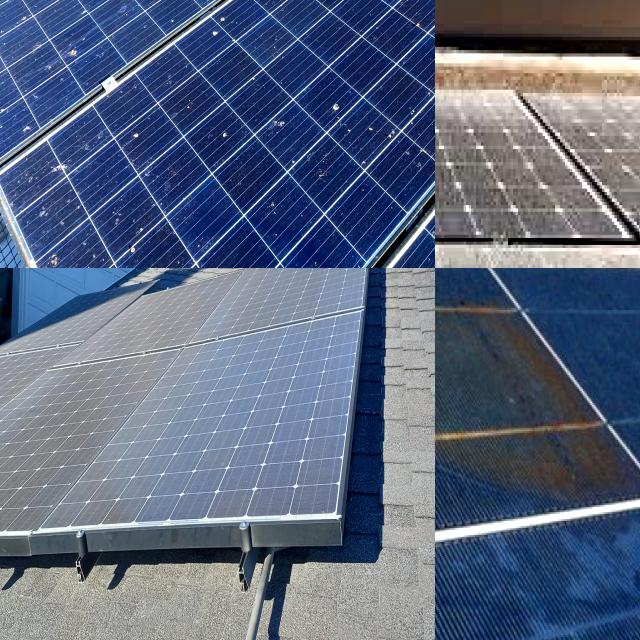dust: (41, 146, 217, 268), (299, 87, 435, 181), (126, 345, 238, 450), (258, 314, 354, 436), (473, 158, 615, 236), (317, 0, 435, 76), (225, 444, 338, 517), (22, 368, 116, 453), (36, 0, 148, 65), (116, 302, 221, 366), (435, 119, 502, 219), (117, 455, 219, 510), (0, 463, 91, 519), (435, 93, 470, 225), (435, 103, 471, 222), (568, 91, 640, 147), (253, 268, 363, 301), (30, 315, 100, 360), (461, 88, 519, 140), (435, 74, 470, 156), (0, 447, 32, 529), (435, 241, 526, 268), (435, 247, 505, 268), (435, 248, 501, 268), (0, 376, 23, 431)
shadow: (435, 268, 640, 511)
